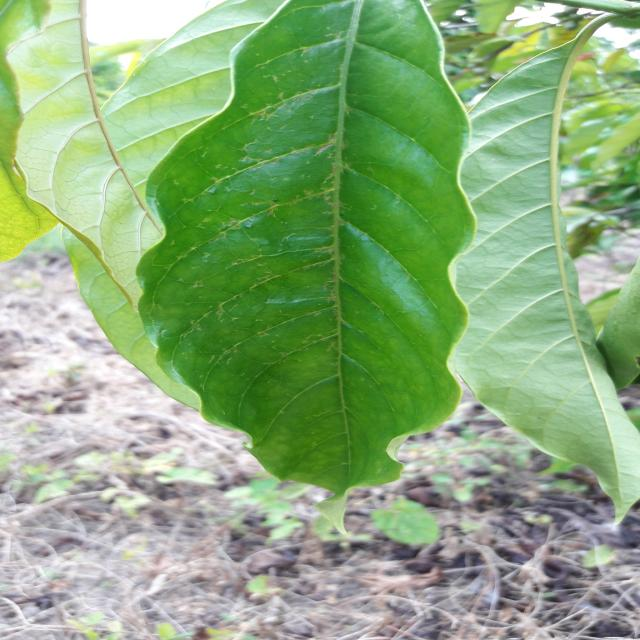Sanas: (136, 0, 478, 498)
